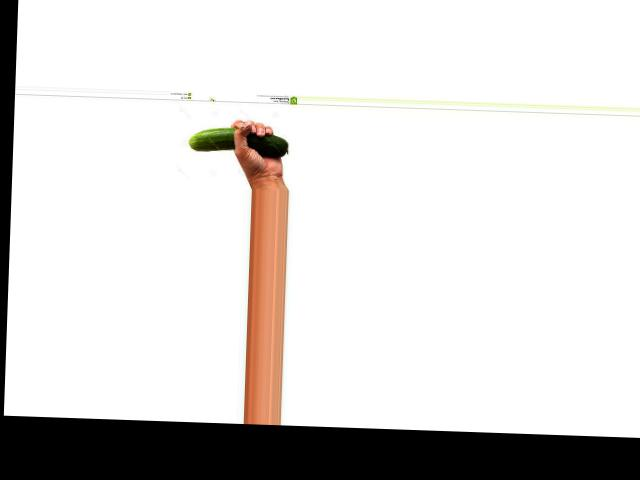cucumber: (188, 125, 287, 156)
